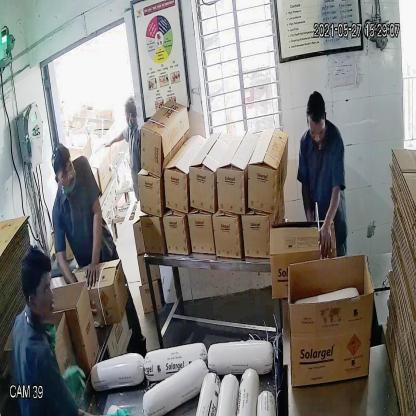no_goggles: (50, 158, 77, 184)
